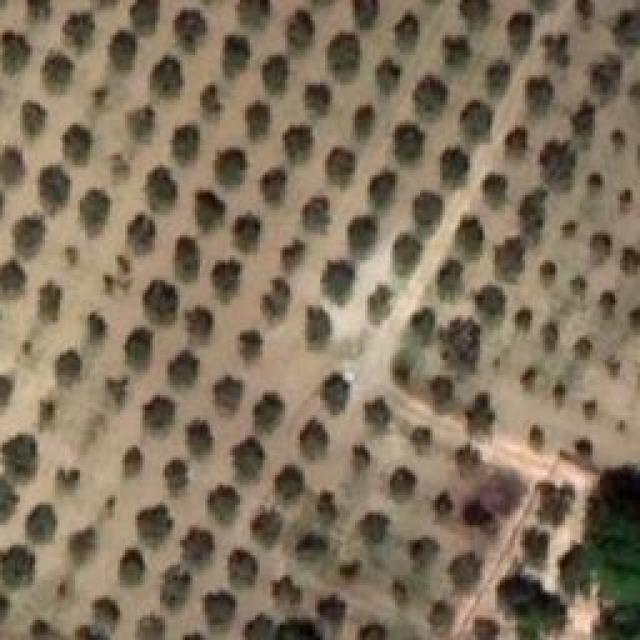Tree: (515, 592, 569, 639), (532, 480, 578, 531), (440, 318, 483, 371), (557, 545, 603, 593), (493, 568, 543, 608), (75, 598, 120, 640), (138, 505, 174, 550), (543, 143, 577, 190), (520, 187, 549, 242), (328, 33, 361, 80), (40, 165, 71, 215), (143, 280, 178, 323), (323, 260, 356, 305), (3, 435, 38, 477), (0, 545, 35, 587), (590, 55, 621, 102), (80, 190, 110, 238), (13, 215, 47, 257), (175, 10, 209, 52), (233, 438, 267, 480), (148, 167, 179, 212), (150, 55, 183, 97), (517, 525, 549, 568), (405, 530, 443, 566), (160, 565, 191, 608), (413, 75, 448, 113), (208, 485, 241, 525), (455, 215, 484, 260), (495, 237, 524, 282), (215, 148, 249, 186), (213, 260, 243, 303), (348, 215, 378, 258), (393, 233, 423, 276), (465, 393, 495, 435), (67, 523, 100, 561), (43, 54, 74, 94), (395, 122, 426, 162), (255, 392, 286, 432), (63, 125, 93, 166), (300, 420, 330, 461), (460, 100, 493, 137), (250, 510, 283, 547), (263, 278, 292, 320), (323, 373, 352, 415), (195, 190, 225, 230), (440, 148, 470, 188), (3, 33, 32, 74), (420, 598, 453, 634), (213, 375, 244, 413), (28, 505, 59, 543), (125, 328, 153, 370), (222, 35, 250, 77), (128, 214, 157, 254), (233, 212, 262, 252), (328, 147, 357, 187), (110, 30, 138, 71), (172, 125, 200, 166), (168, 350, 199, 387), (445, 555, 479, 588), (437, 260, 465, 300), (183, 528, 214, 564), (34, 395, 65, 431), (283, 125, 313, 162), (143, 395, 176, 428), (175, 237, 199, 282), (454, 443, 484, 479), (230, 550, 259, 587), (287, 10, 315, 48), (203, 593, 236, 625), (63, 12, 93, 47), (128, 105, 157, 141), (613, 8, 640, 46), (368, 285, 393, 326), (52, 465, 85, 496), (413, 194, 443, 228), (390, 467, 419, 502), (55, 350, 83, 386), (308, 308, 332, 350), (38, 282, 63, 322), (510, 12, 535, 52), (263, 55, 289, 92), (188, 420, 214, 457), (475, 285, 505, 317), (275, 620, 323, 640), (275, 465, 304, 498), (295, 533, 329, 561), (395, 13, 420, 51), (120, 550, 146, 586), (528, 78, 554, 114), (360, 513, 390, 544), (245, 103, 270, 140), (370, 173, 395, 210), (488, 60, 513, 97), (460, 500, 494, 527), (573, 100, 597, 138), (260, 167, 286, 202), (303, 197, 329, 232), (375, 60, 401, 95), (318, 595, 347, 626), (23, 102, 49, 136), (410, 307, 435, 342), (185, 308, 214, 338), (273, 575, 302, 605), (474, 610, 504, 639), (165, 460, 189, 496), (0, 260, 26, 293), (133, 0, 159, 33), (483, 174, 508, 208), (240, 0, 271, 27), (428, 490, 455, 521), (0, 147, 22, 184), (57, 242, 86, 270), (0, 477, 18, 522), (543, 35, 569, 65), (513, 303, 539, 333), (430, 375, 455, 406), (525, 425, 550, 456), (283, 240, 307, 272), (445, 36, 470, 66), (135, 615, 165, 640), (108, 375, 133, 405), (355, 105, 376, 140), (305, 85, 329, 115), (240, 330, 263, 361), (505, 128, 528, 159), (590, 233, 613, 264), (350, 620, 385, 640), (352, 0, 377, 27), (245, 615, 272, 640), (410, 428, 433, 457), (385, 575, 408, 603), (365, 400, 385, 431), (463, 0, 492, 21), (110, 152, 130, 182), (88, 314, 108, 344), (123, 448, 143, 478), (573, 435, 596, 460), (540, 325, 562, 351), (603, 353, 625, 379), (25, 620, 53, 640), (200, 85, 218, 115), (573, 338, 596, 361), (550, 383, 571, 408), (353, 445, 372, 472), (28, 0, 51, 22), (518, 365, 541, 387), (580, 398, 601, 421), (540, 260, 558, 286), (622, 248, 640, 273), (318, 490, 334, 518), (603, 293, 619, 320), (0, 375, 13, 406), (340, 563, 360, 581), (610, 130, 626, 152), (570, 275, 588, 293), (575, 0, 592, 19), (563, 220, 579, 236), (620, 190, 631, 213), (630, 308, 640, 331), (590, 175, 604, 190)
